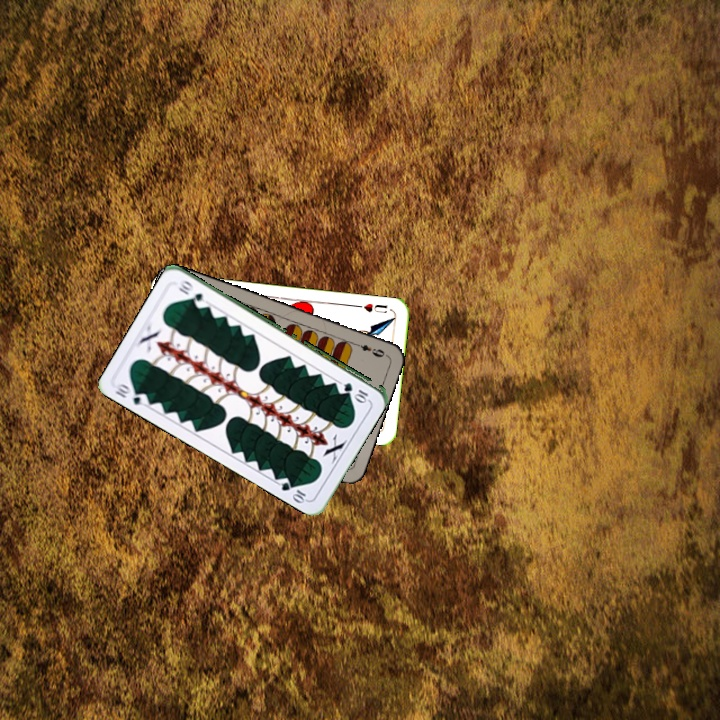E9: (350, 339, 387, 360)
G10: (111, 379, 151, 409), (340, 378, 371, 404)
HU: (360, 299, 390, 316)
